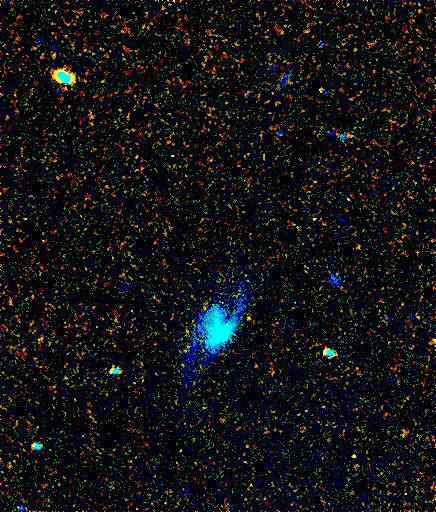star: (341, 441, 371, 471)
